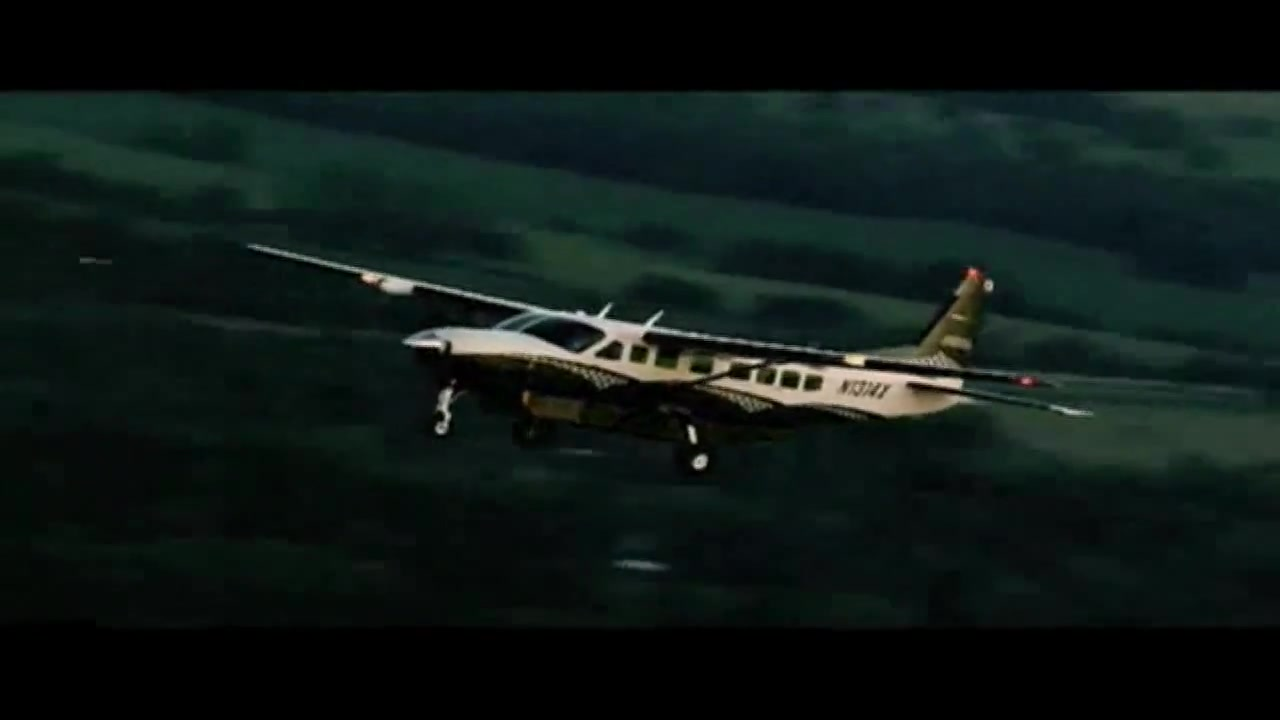aeroplane: (249, 241, 1098, 471)
